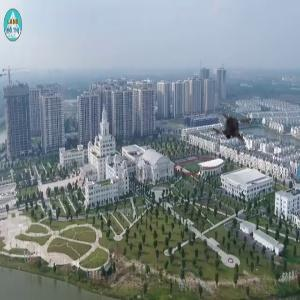drone: (205, 106, 265, 166)
